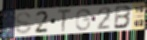2: (33, 11, 51, 34), (96, 7, 113, 31)
B: (113, 5, 133, 30)
G: (74, 8, 92, 32)
S: (14, 12, 33, 36)
T: (57, 8, 73, 34)
